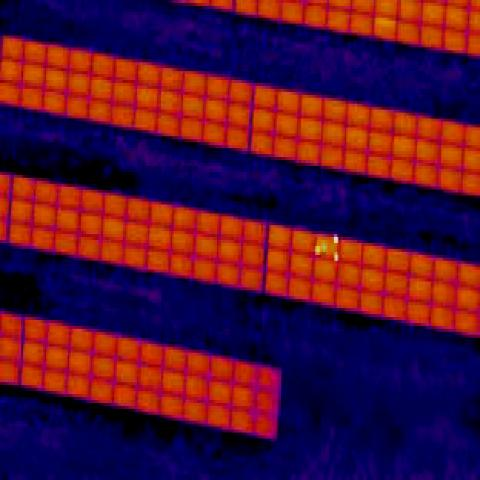fault: (322, 243, 326, 255), (315, 246, 320, 255), (334, 252, 338, 261), (334, 237, 338, 243)
